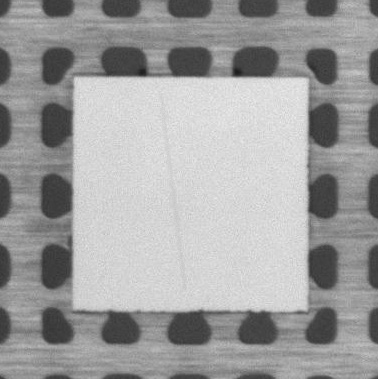DIE_CRACK: (161, 94, 185, 290)
